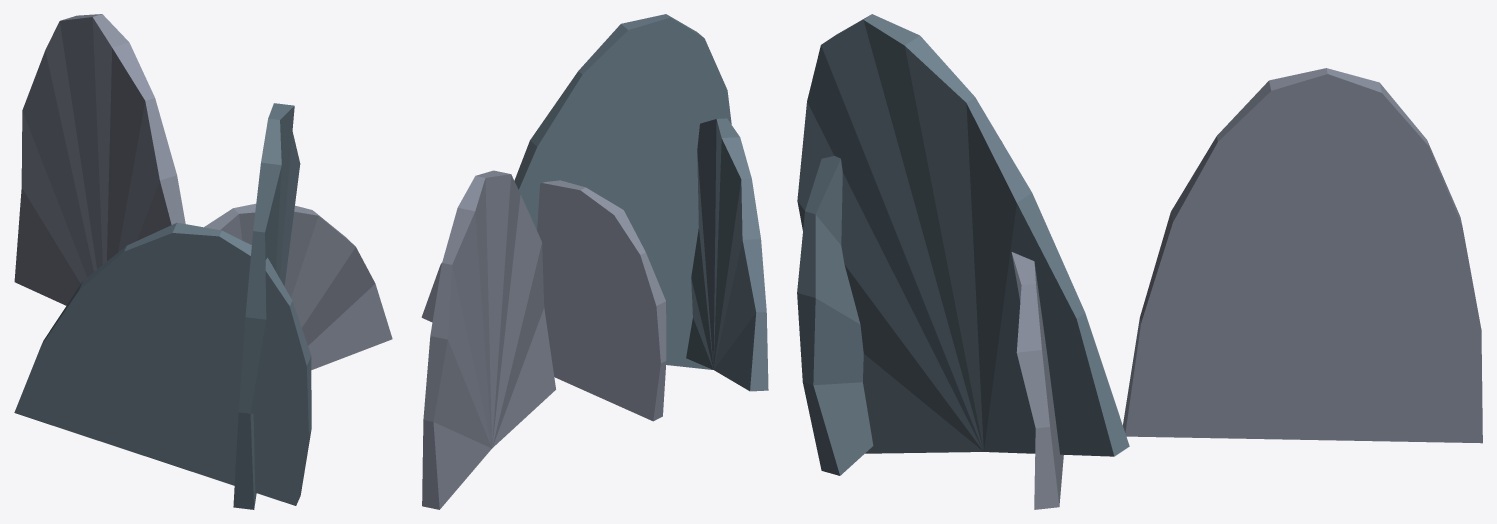
Rendered from plant-riftGlass.glb.
The picture shows the model from 3 angles, left to right: view 1: azimuth 30°, elevation 25°; view 2: azimuth 150°, elevation 25°; view 3: azimuth 270°, elevation 25°; orthographic projection. The views are drawn at different scales.
Parts seen in each view (by area): view 1: plant-riftGlass; view 2: plant-riftGlass; view 3: plant-riftGlass.
Boxes of the visible parts, box(x1,y1,x2,y2) form: plant-riftGlass: box(14, 14, 392, 509); plant-riftGlass: box(421, 14, 768, 509); plant-riftGlass: box(797, 14, 1482, 509).
Bounding box in the file's own units: 0.7497 × 0.7258 × 0.9907.
